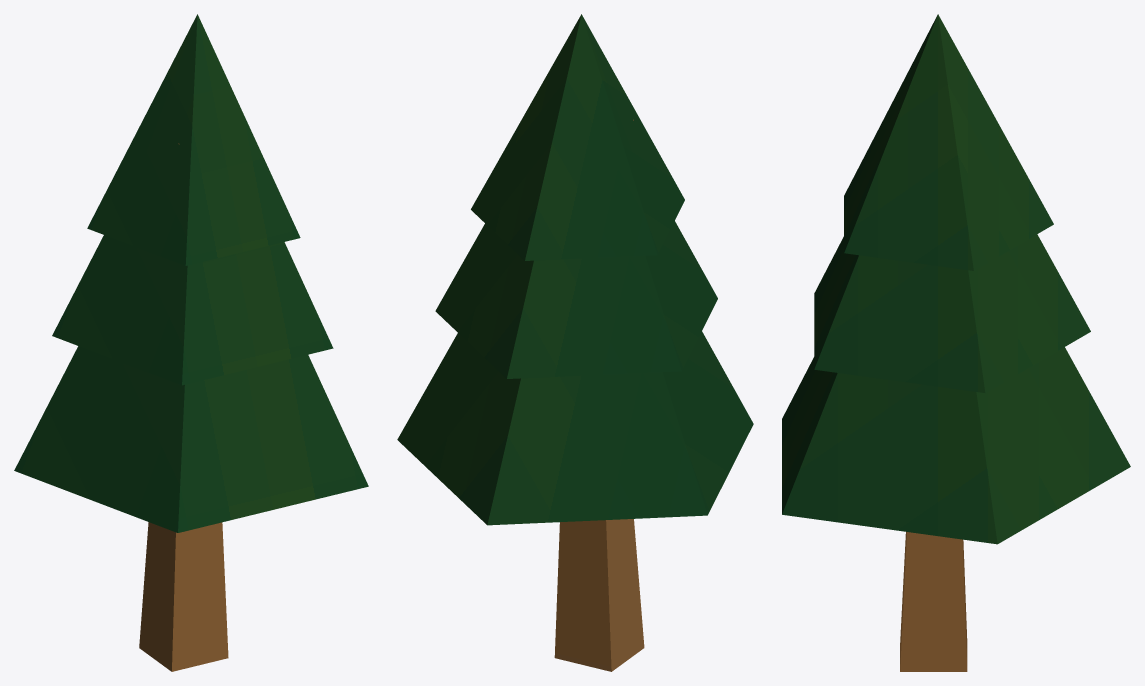
The model's file is Tree.glb.
3 views of the same model, side by side, from view 1: azimuth 30°, elevation 25°; view 2: azimuth 150°, elevation 25°; view 3: azimuth 270°, elevation 25° (orthographic). The views are drawn at different scales.
Visible parts, largest first — view 1: Cube.003; view 2: Cube.003; view 3: Cube.003.
Boxes of the visible parts, x1,y1,x2,y2 form: Cube.003: (14,14,368,671); Cube.003: (397,14,753,671); Cube.003: (782,14,1130,671).
Bounding box in the file's own units: 4.55 × 8.92 × 4.33.
Materials: 2 (2 with a texture image).
